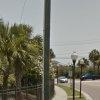Palm tree: (2, 14, 38, 100)
